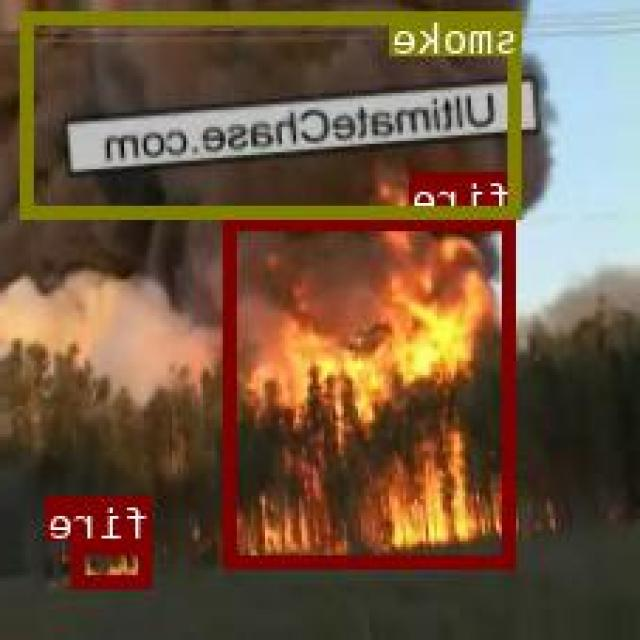fire: (227, 214, 517, 566), (74, 539, 153, 586)
smoke: (23, 10, 522, 214)
